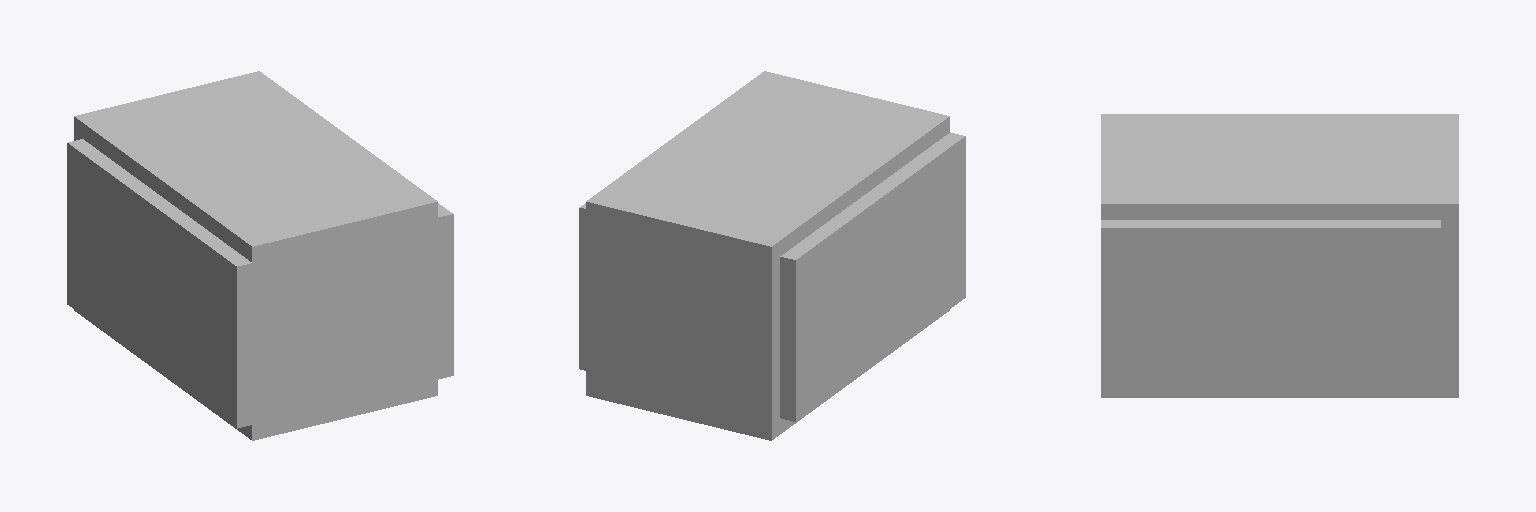
File: phage_ray_barrel.obj
The picture shows the model from 3 angles: view 1: azimuth 30°, elevation 25°; view 2: azimuth 150°, elevation 25°; view 3: azimuth 270°, elevation 25°; orthographic projection.
Visible parts, largest first — view 1: cube; view 2: cube; view 3: cube.
Boxes of the visible parts, x1=… form: cube: x1=67, y1=71, x2=453, y2=440; cube: x1=579, y1=71, x2=965, y2=440; cube: x1=1101, y1=114, x2=1458, y2=397.
Size of the model in its own units: 1.75 by 1.5 by 2.5.